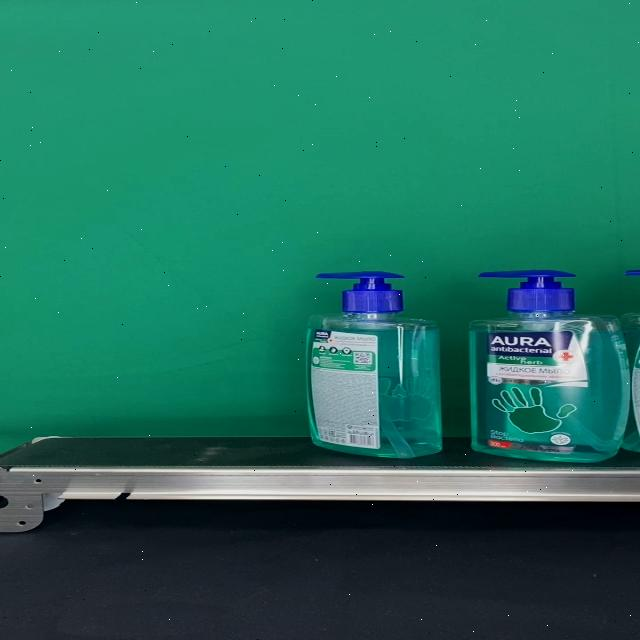Bottle: (469, 270, 629, 463), (305, 271, 442, 458)
Cap: (477, 270, 576, 312), (316, 271, 405, 313)
